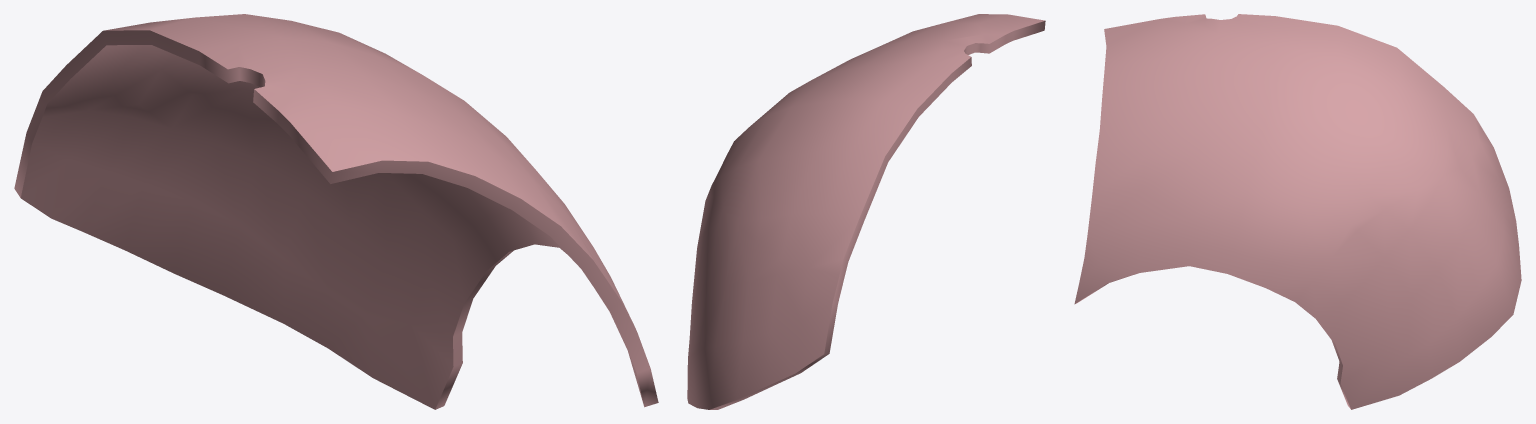
3 views of the same model, side by side, from view 1: azimuth 30°, elevation 25°; view 2: azimuth 150°, elevation 25°; view 3: azimuth 270°, elevation 25° (orthographic). The views are drawn at different scales.
Parts seen in each view (by area): view 1: ZA_5cf5b5fcf4d52629; view 2: ZA_5cf5b5fcf4d52629; view 3: ZA_5cf5b5fcf4d52629.
Boxes of the visible parts, <box> form: ZA_5cf5b5fcf4d52629: <box>14,14,658,409</box>; ZA_5cf5b5fcf4d52629: <box>687,14,1045,409</box>; ZA_5cf5b5fcf4d52629: <box>1074,14,1521,409</box>.
Size of the model in its own units: 0.0789 by 0.1052 by 0.1411.
